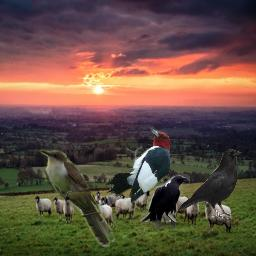Crow: (177, 148, 242, 219), (139, 174, 190, 232)
Cuckoo: (39, 148, 115, 247)
Woodpecker: (104, 127, 170, 203)
